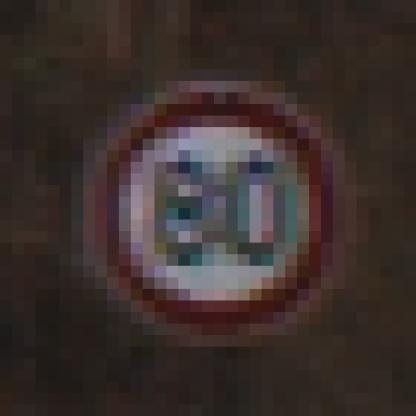Speed Limit 80: (107, 92, 336, 328)
